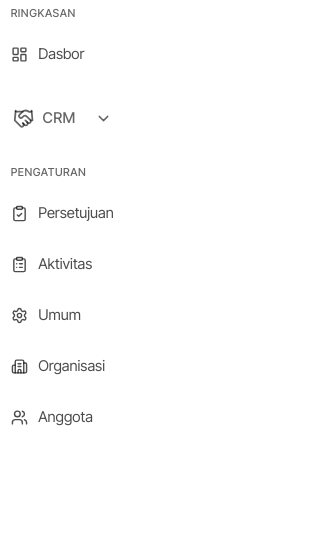
it: OrgNav module gating › hides sections of deactivated modules
Click the button "CRM". click: click(62, 119)
box: [13, 108, 112, 129]
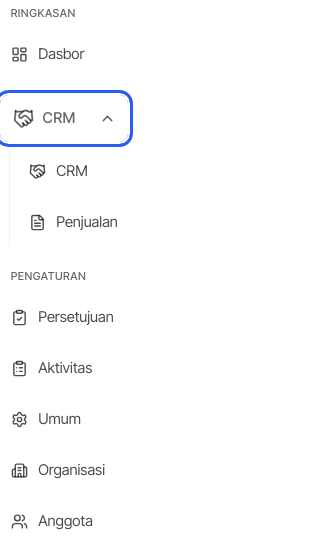
expect the link "Penjualan" is shown: met, box [29, 213, 118, 231]
